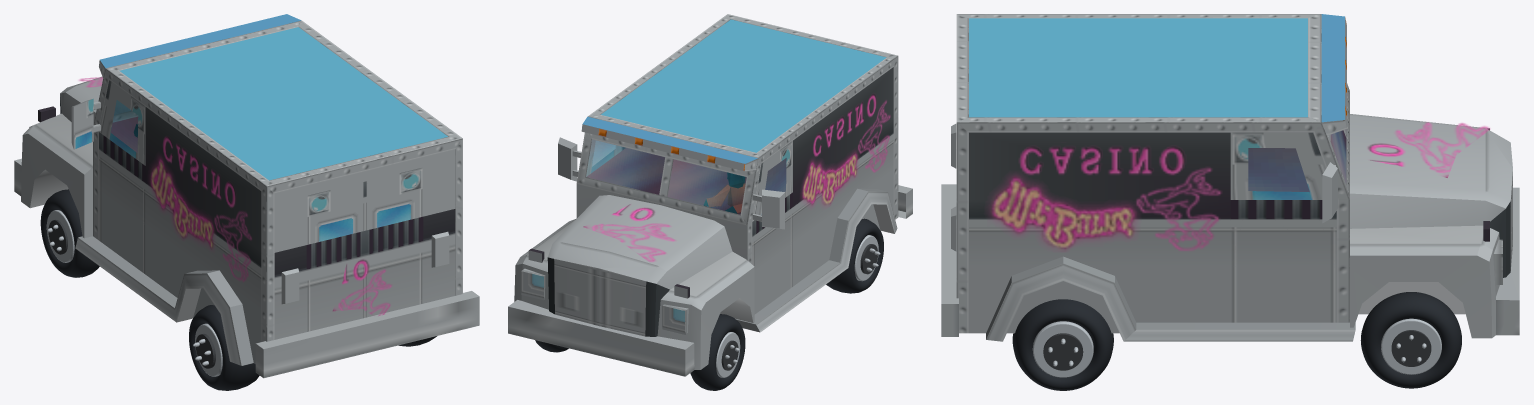
The model's file is car-burnsarm.glb.
3 views of the same model, side by side, from view 1: azimuth 30°, elevation 25°; view 2: azimuth 150°, elevation 25°; view 3: azimuth 270°, elevation 25° (orthographic). The views are drawn at different scales.
Parts seen in each view (by area): view 1: burnsarmShape, burnsarmShape.003, burnsarm wheel assembly.001, burnsarm wheel assembly.002, burnsarmShape.002, burnsarmShape.001; view 2: burnsarmShape, burnsarmShape.002, burnsarmShape.001, burnsarmShape.003, burnsarm wheel assembly.002, burnsarm wheel assembly.001; view 3: burnsarmShape, burnsarmShape.003, burnsarm wheel assembly.003, burnsarm wheel assembly, burnsarmShape.002, burnsarmShape.001.
Part boxes in pixels (left/top/right/bottom): burnsarmShape: left=14, top=14, right=479, bottom=378; burnsarmShape.003: left=78, top=77, right=391, bottom=315; burnsarm wheel assembly.001: left=189, top=305, right=259, bottom=390; burnsarm wheel assembly.002: left=40, top=189, right=99, bottom=277; burnsarmShape.002: left=111, top=100, right=138, bottom=152; burnsarmShape.001: left=111, top=117, right=137, bottom=152; burnsarmShape: left=508, top=14, right=912, bottom=376; burnsarmShape.002: left=586, top=139, right=786, bottom=214; burnsarmShape.001: left=587, top=148, right=786, bottom=214; burnsarmShape.003: left=583, top=93, right=890, bottom=261; burnsarm wheel assembly.002: left=690, top=314, right=745, bottom=390; burnsarm wheel assembly.001: left=826, top=218, right=883, bottom=293; burnsarmShape: left=941, top=14, right=1519, bottom=341; burnsarmShape.003: left=989, top=122, right=1490, bottom=251; burnsarm wheel assembly.003: left=1360, top=292, right=1461, bottom=388; burnsarm wheel assembly: left=1012, top=299, right=1113, bottom=390; burnsarmShape.002: left=1248, top=129, right=1346, bottom=191; burnsarmShape.001: left=1248, top=129, right=1345, bottom=191.
Bounding box in the file's own units: 3.34 × 2.92 × 5.71.
Materials: 7 (4 with a texture image).
